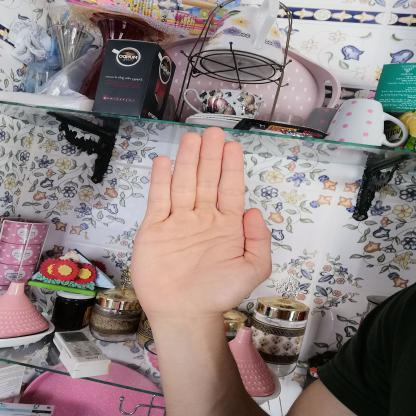SEEN: (119, 119, 280, 325)
